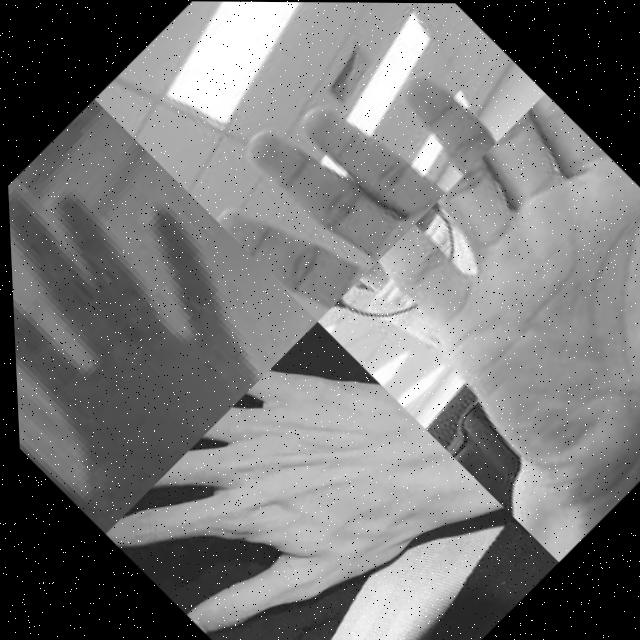hand: (341, 90, 640, 517), (4, 115, 304, 535), (91, 319, 483, 640), (184, 8, 509, 322)
